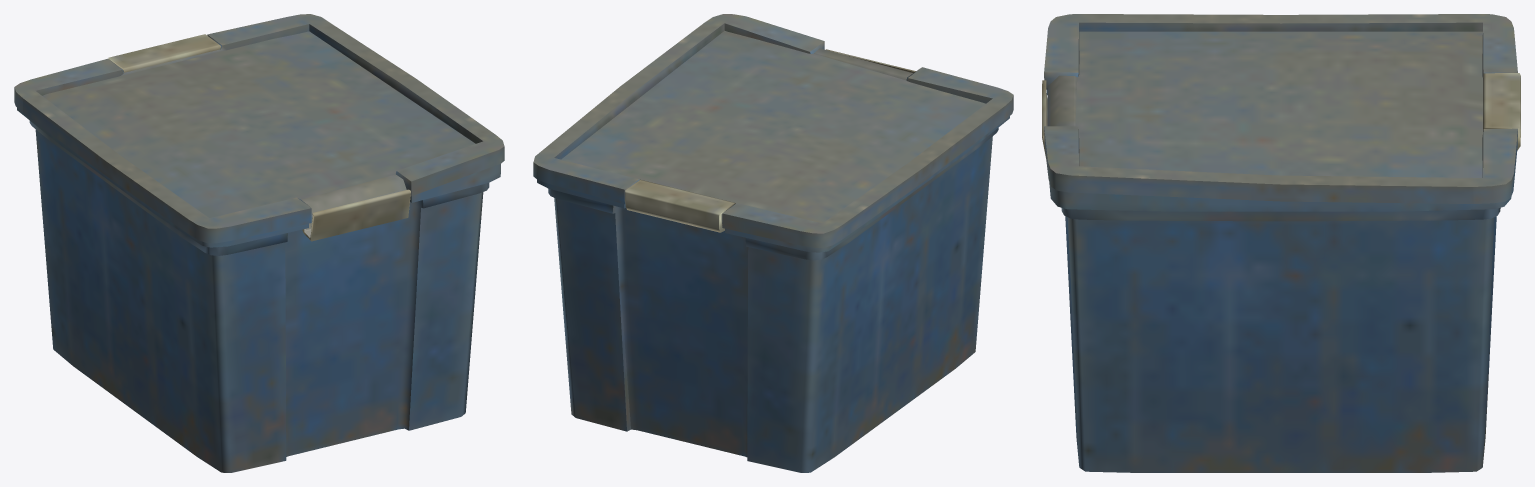
Rendered from 074_PlasticBox2.fbx.
3 views of the same model, side by side, from view 1: azimuth 30°, elevation 25°; view 2: azimuth 150°, elevation 25°; view 3: azimuth 270°, elevation 25° (orthographic). The views are drawn at different scales.
Parts seen in each view (by area): view 1: LOD_1_Group_0_Sub_1__sm30_074_PlasticBox01A_A_Mat; view 2: LOD_1_Group_0_Sub_1__sm30_074_PlasticBox01A_A_Mat; view 3: LOD_1_Group_0_Sub_1__sm30_074_PlasticBox01A_A_Mat.
Boxes of the visible parts, x1,y1,x2,y2 form: LOD_1_Group_0_Sub_1__sm30_074_PlasticBox01A_A_Mat: (14,14,504,472); LOD_1_Group_0_Sub_1__sm30_074_PlasticBox01A_A_Mat: (533,14,1013,472); LOD_1_Group_0_Sub_1__sm30_074_PlasticBox01A_A_Mat: (1042,14,1520,472).
Bounding box in the file's own units: 0.4374 × 0.363 × 0.5017.
